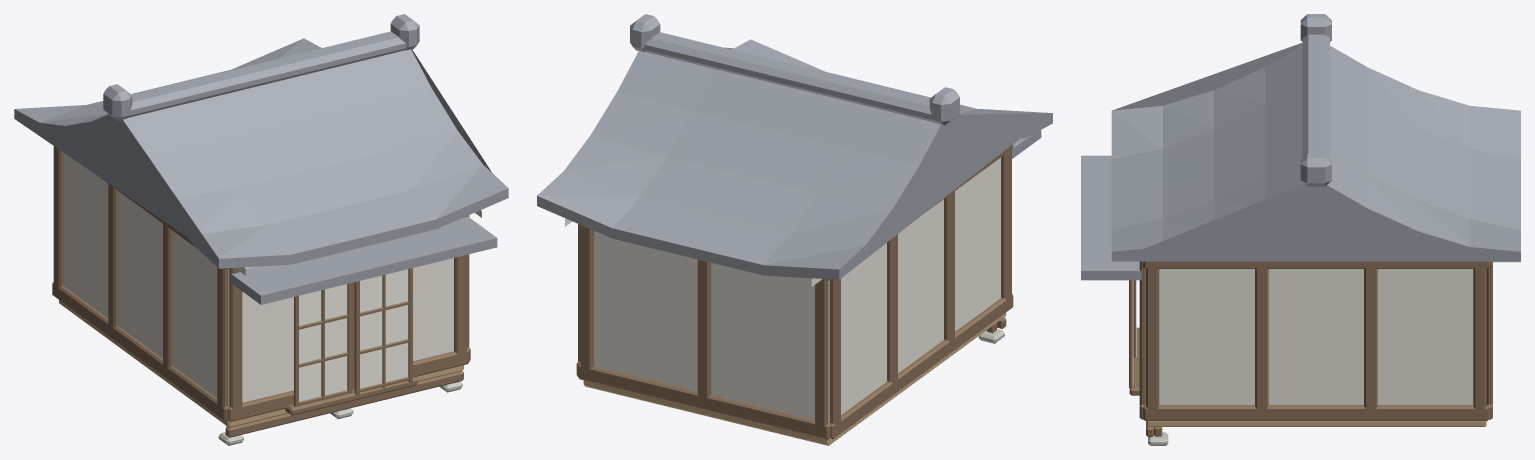
Rendered from townhouse-middle.glb.
The picture shows the model from 3 angles, left to right: view 1: azimuth 30°, elevation 25°; view 2: azimuth 150°, elevation 25°; view 3: azimuth 270°, elevation 25°; orthographic projection. The views are drawn at different scales.
Parts seen in each view (by area): view 1: townhouse-middle; view 2: townhouse-middle; view 3: townhouse-middle.
Boxes of the visible parts, x1,y1,x2,y2 form: townhouse-middle: (14, 14, 508, 445); townhouse-middle: (537, 14, 1052, 445); townhouse-middle: (1081, 14, 1520, 445).
Size of the model in its own units: 5.2 by 4.91 by 6.45.
